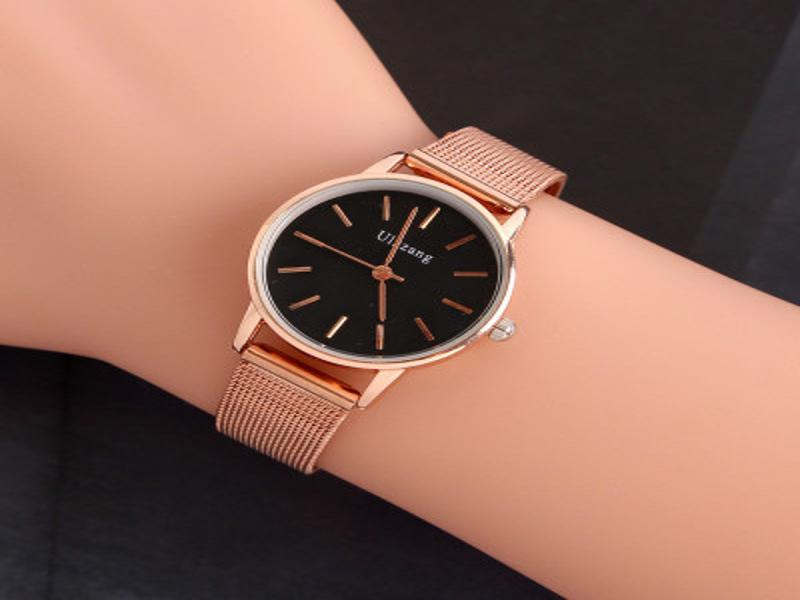watch: (213, 125, 571, 478)
